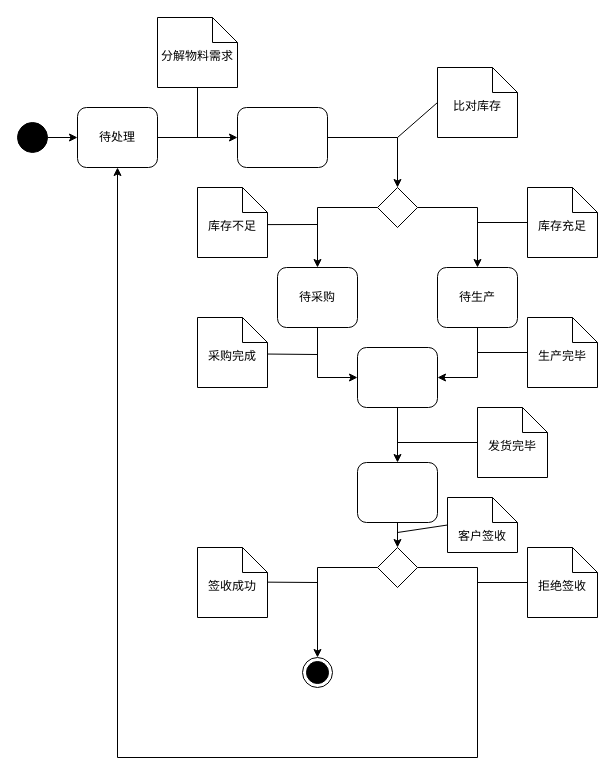
Some shapes in this 615 by 783 pixel diagram are drawn without their labels. The box of each missing label's shape, as (x1, y1, x2, y2) in pixels:
待发货: (356, 346, 438, 408)
待比对库存: (236, 106, 328, 168)
待签收: (356, 462, 438, 522)
